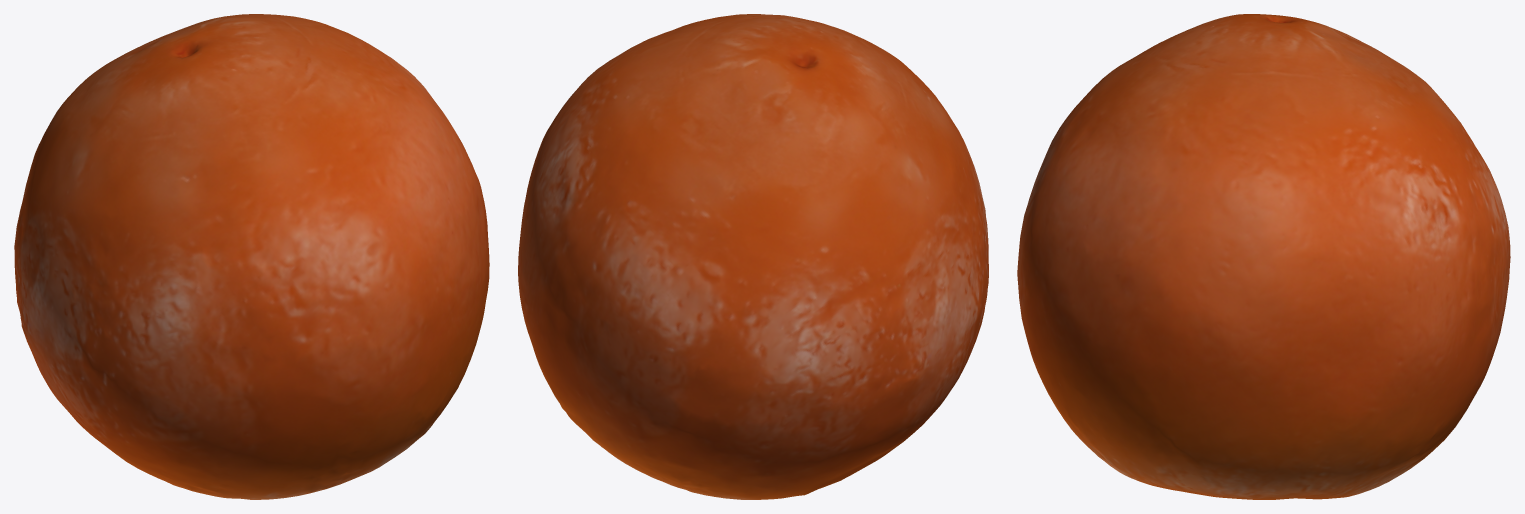
The model's file is orange.glb.
3 views of the same model, side by side, from view 1: azimuth 30°, elevation 25°; view 2: azimuth 150°, elevation 25°; view 3: azimuth 270°, elevation 25° (orthographic).
Visible parts, largest first — view 1: textured; view 2: textured; view 3: textured.
Boxes of the visible parts, bbox=[...] form: textured: bbox=[14, 14, 489, 499]; textured: bbox=[518, 14, 988, 499]; textured: bbox=[1017, 14, 1510, 499].
Size of the model in its own units: 0.0711 by 0.0729 by 0.0737.
1 material, 1 textured.
